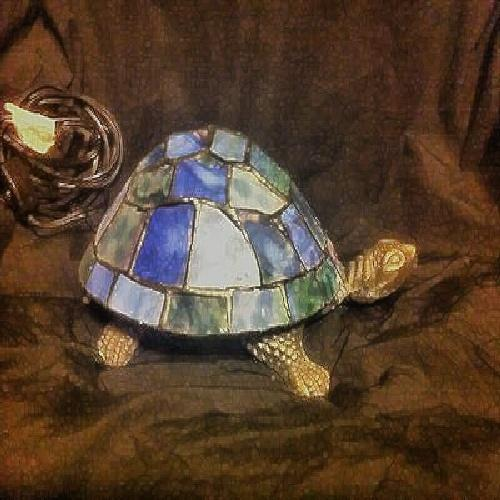lamp: (94, 131, 404, 400)
